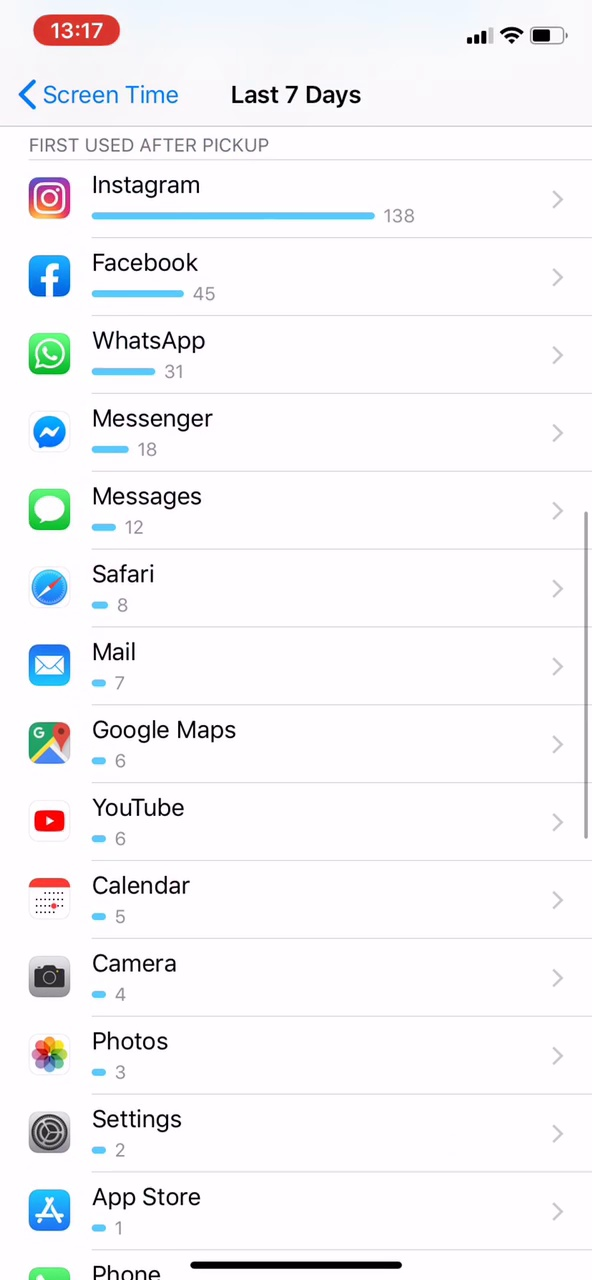pick_app: (23, 158, 478, 244), (17, 946, 284, 1024), (23, 474, 287, 550), (26, 707, 292, 782), (9, 1178, 275, 1253), (25, 861, 276, 939), (22, 400, 281, 474), (20, 324, 276, 396), (20, 246, 267, 319), (15, 1097, 257, 1171), (25, 553, 261, 627), (26, 785, 264, 858), (15, 1025, 245, 1092), (26, 630, 215, 705)
week: (219, 71, 384, 111)
